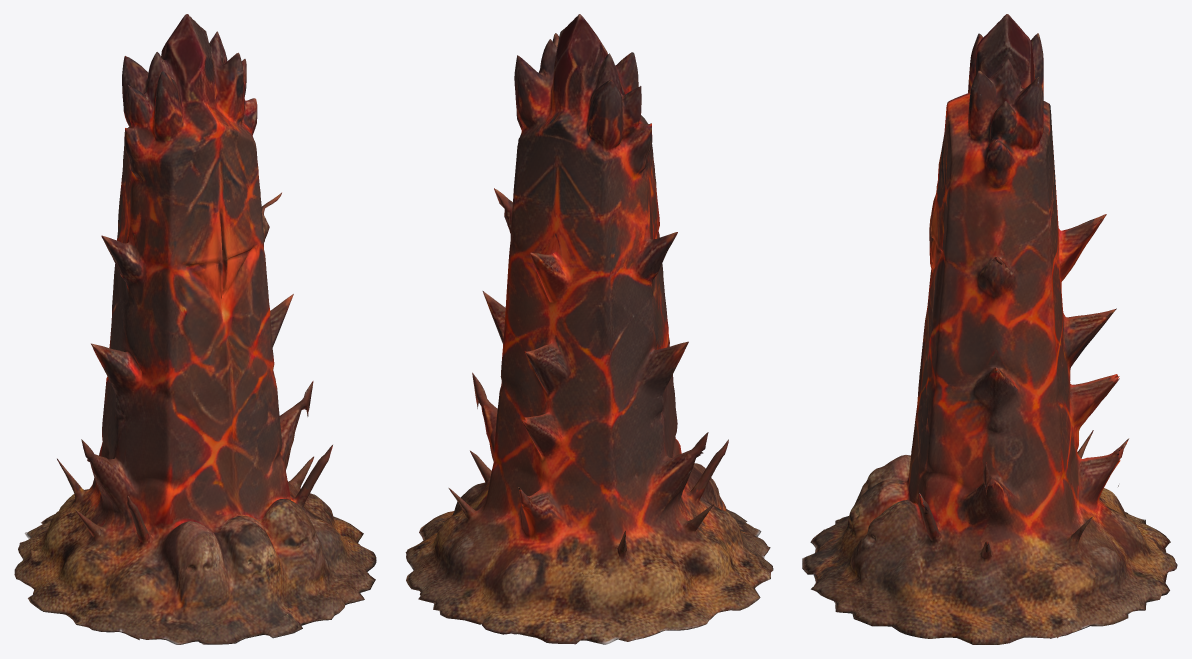
Rendered from ksC-rodin.glb.
3 views of the same model, side by side, from view 1: azimuth 30°, elevation 25°; view 2: azimuth 150°, elevation 25°; view 3: azimuth 270°, elevation 25° (orthographic).
Visible parts, largest first — view 1: model; view 2: model; view 3: model.
Part boxes in pixels (box(x1,y1,x2,y2)): model: box(14, 14, 376, 644); model: box(405, 14, 773, 644); model: box(802, 14, 1177, 644).
Bounding box in the file's own units: 1.15 × 1.86 × 1.15.
Materials: 1 (1 with a texture image).
